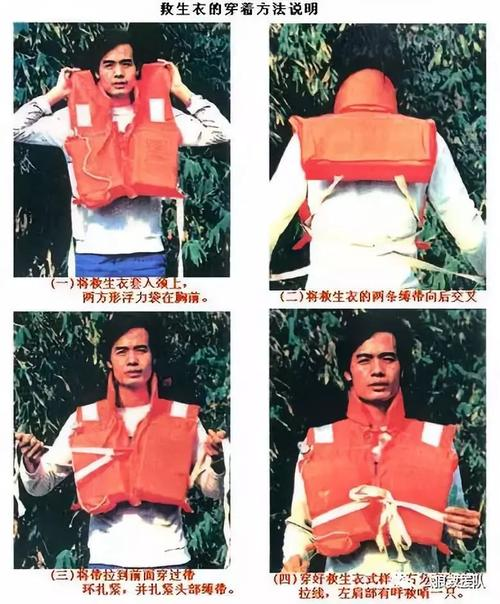reflective_clothes: (295, 376, 464, 563), (295, 72, 441, 252), (60, 368, 198, 532), (48, 62, 180, 213)
